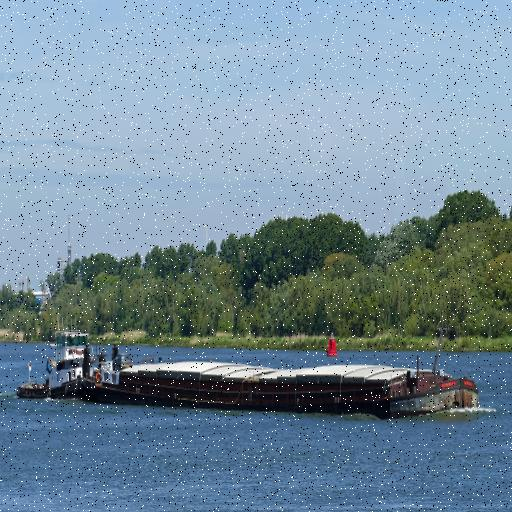tugboat: (14, 316, 128, 412)
